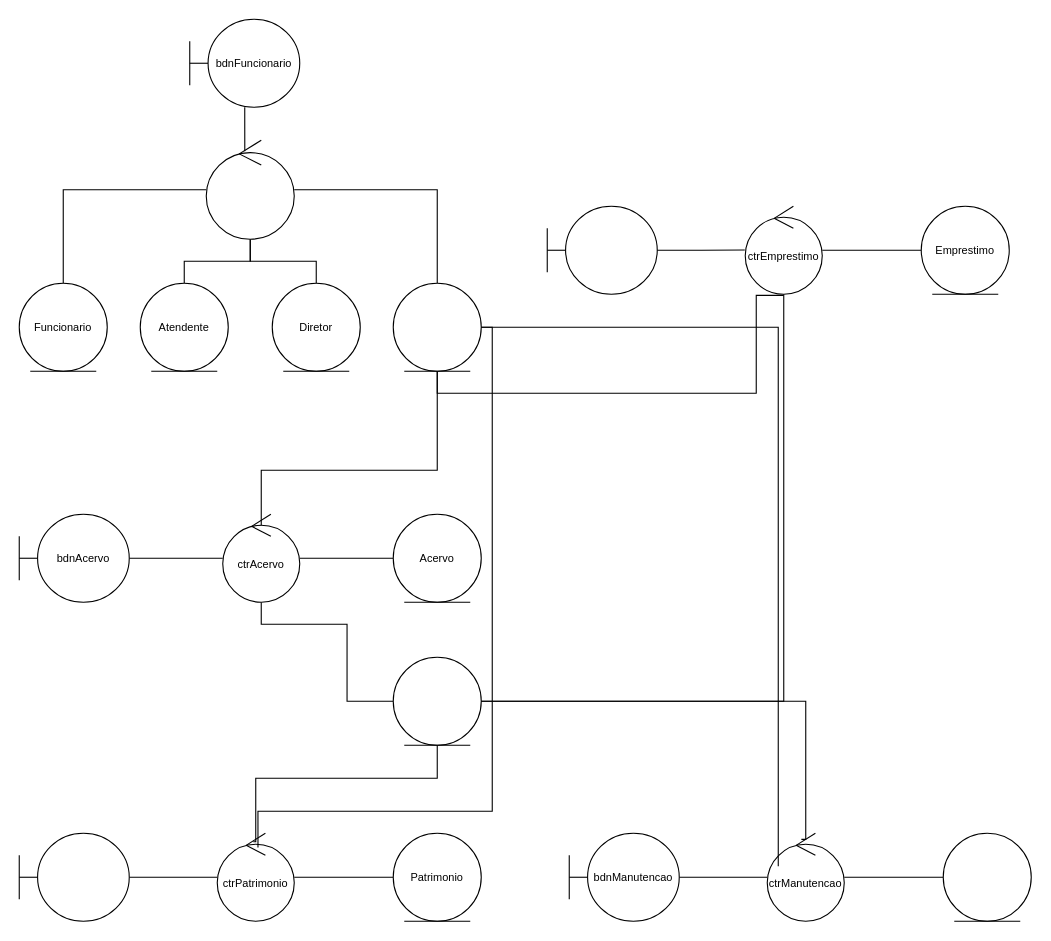
Some shapes in this 1051 by 941 pixel diagram are drawn without their labels. The centre of each missing label's shape, as x and y in pixels:
"bdnEmprestimo" goes at (x=601, y=249).
"bdnPatrimonio" goes at (x=73, y=876).
"ctrFuncionario" goes at (x=249, y=189).
"Gerente" goes at (x=436, y=326).
"Item" goes at (x=436, y=700).
"Manutencao" goes at (x=986, y=876).
